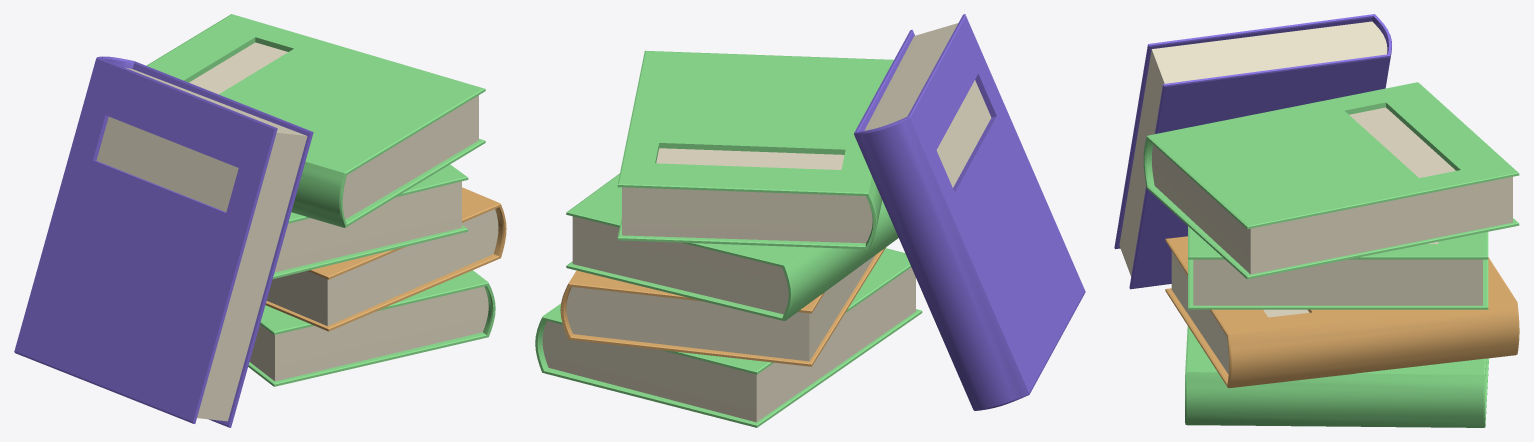
File: book_1204.glb
The picture shows the model from 3 angles, left to right: view 1: azimuth 30°, elevation 25°; view 2: azimuth 150°, elevation 25°; view 3: azimuth 270°, elevation 25°; orthographic projection. The views are drawn at different scales.
Parts seen in each view (by area): view 1: Cube.004, Cube.003, Cube, Cube.001, Cube.002; view 2: Cube.004, Cube.003, Cube, Cube.002, Cube.001; view 3: Cube.003, Cube.004, Cube.001, Cube, Cube.002.
Boxes of the visible parts, x1,y1,x2,y2 form: Cube.004: (14,56,313,427); Cube.003: (146,14,485,227); Cube: (248,270,495,386); Cube.001: (265,187,506,331); Cube.002: (273,164,468,278); Cube.004: (854,14,1085,410); Cube.003: (617,50,893,249); Cube: (535,248,922,427); Cube.002: (566,173,898,320); Cube.001: (560,247,885,366); Cube.003: (1143,82,1519,279); Cube.004: (1114,14,1391,289); Cube.001: (1165,236,1519,388); Cube: (1185,326,1488,427); Cube.002: (1188,226,1488,309).
Bounding box in the file's own units: 5.31 × 3.28 × 4.42.
